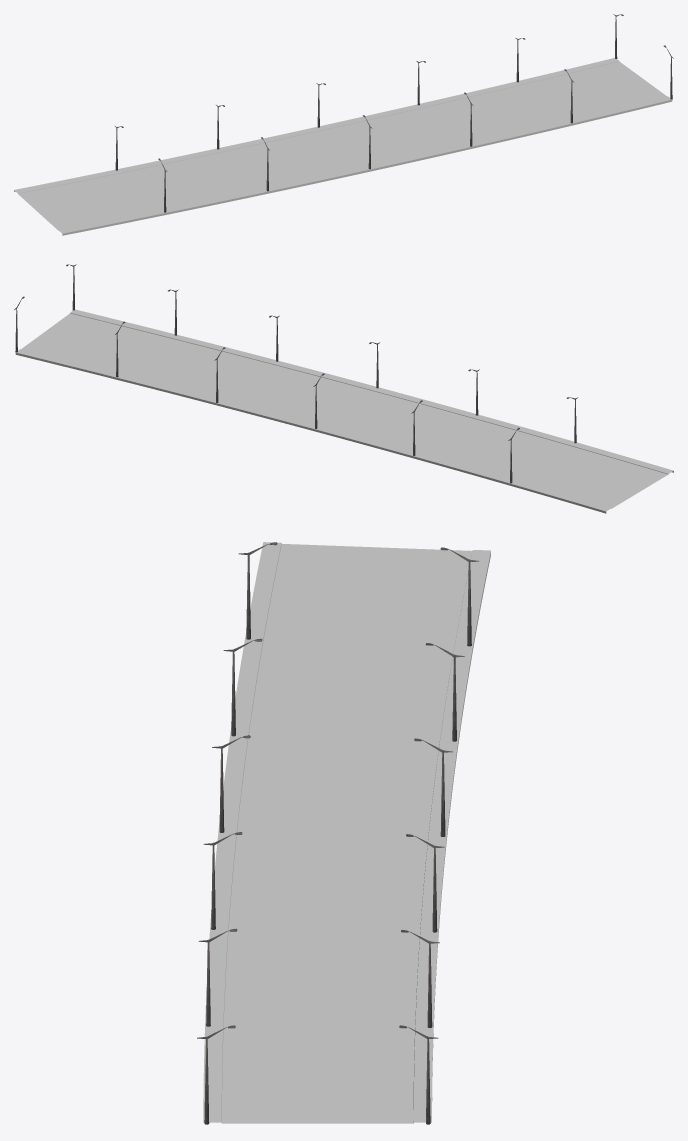
The model's file is Big_Road_5.FBX.
3 renders of one model, top to bottom at view 1: azimuth 30°, elevation 25°; view 2: azimuth 150°, elevation 25°; view 3: azimuth 270°, elevation 25°, orthographic. The views are drawn at different scales.
Parts seen in each view (by area): view 1: Big_Road_5, city_light; view 2: Big_Road_5, city_light; view 3: Big_Road_5, city_light.
Boxes of the visible parts, left/top/right/bottom form: Big_Road_5: left=14, top=58, right=672, bottom=235; city_light: left=115, top=14, right=673, bottom=212; Big_Road_5: left=15, top=309, right=673, bottom=513; city_light: left=14, top=264, right=577, bottom=483; Big_Road_5: left=203, top=542, right=490, bottom=1123; city_light: left=197, top=542, right=479, bottom=1124.
Size of the model in its own units: 136 by 29.19 by 11.04.
